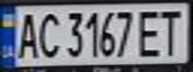1: (81, 8, 100, 57)
3: (63, 8, 84, 59)
6: (96, 8, 121, 57)
7: (115, 7, 139, 58)
A: (12, 9, 42, 60)
C: (36, 9, 63, 60)
E: (136, 7, 166, 58)
T: (154, 6, 187, 56)
